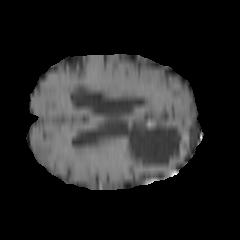glioma: (60, 70, 189, 170)
